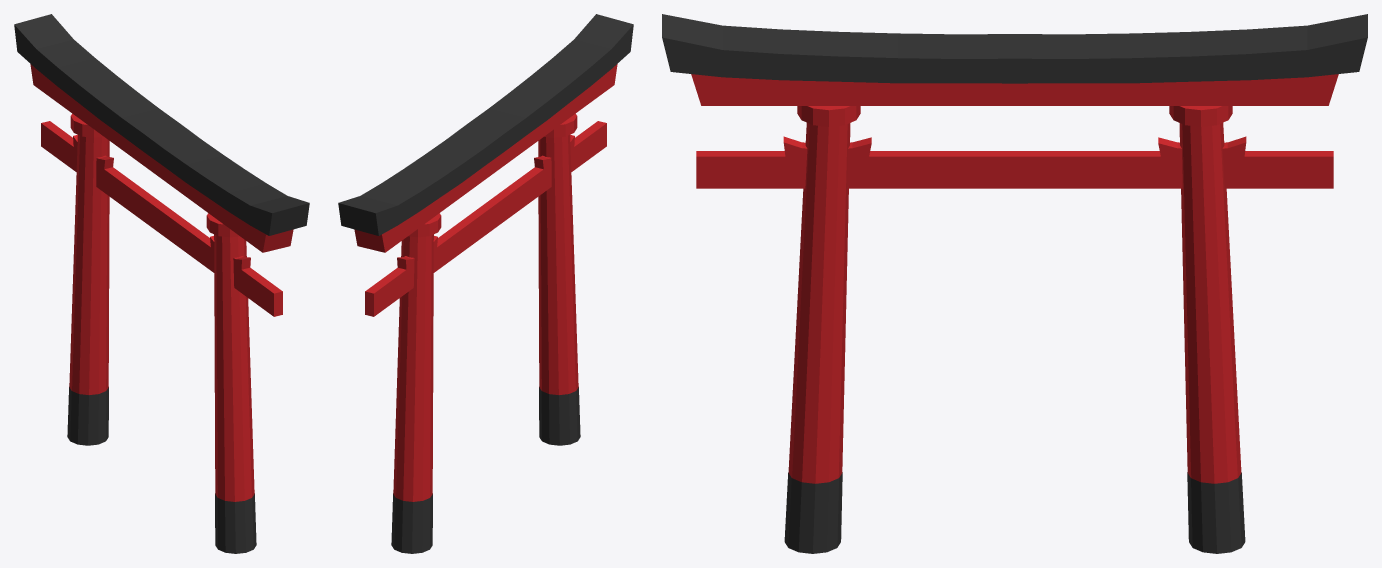
Rendered from shrine.glb.
3 renders of one model, left to right at view 1: azimuth 30°, elevation 25°; view 2: azimuth 150°, elevation 25°; view 3: azimuth 270°, elevation 25°, orthographic. The views are drawn at different scales.
Parts seen in each view (by area): view 1: Cube; view 2: Cube; view 3: Cube.
Part boxes in pixels (x1,y1,x2,y2): Cube: (14,14,309,553); Cube: (338,14,633,553); Cube: (662,14,1367,553).
Bounding box in the file's own units: 0.4537 × 4.08 × 5.05.
